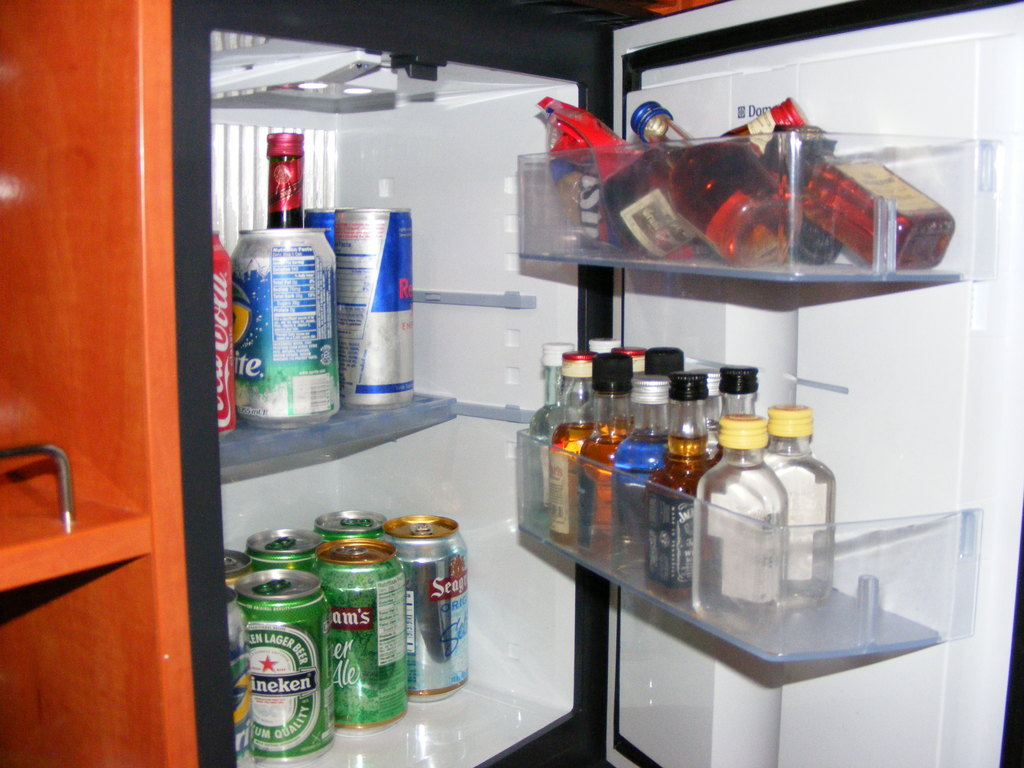refrigerator door: (626, 44, 984, 766)
